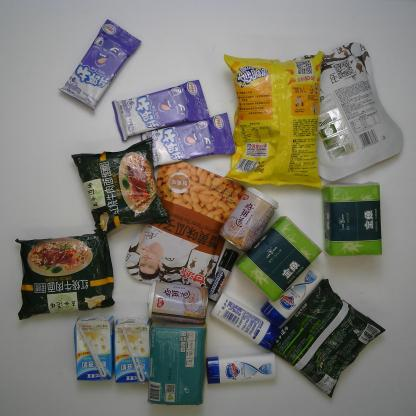Candy: (55, 18, 142, 112), (111, 79, 211, 142), (138, 112, 237, 168)
Canned Food: (220, 182, 282, 253), (143, 280, 211, 325)
Dried Fruit: (117, 160, 254, 298), (281, 39, 405, 181)
Instant Noodles: (266, 274, 387, 399), (70, 137, 171, 236), (16, 227, 117, 322)
Milk: (74, 308, 115, 387), (109, 313, 153, 386)
Personal Hygiene: (255, 263, 327, 326), (210, 292, 280, 350), (201, 355, 278, 386)
Puffed Food: (211, 51, 327, 194)
Stationery: (204, 244, 242, 304)
Tissue: (233, 214, 325, 304), (146, 315, 214, 408), (321, 178, 384, 260)
